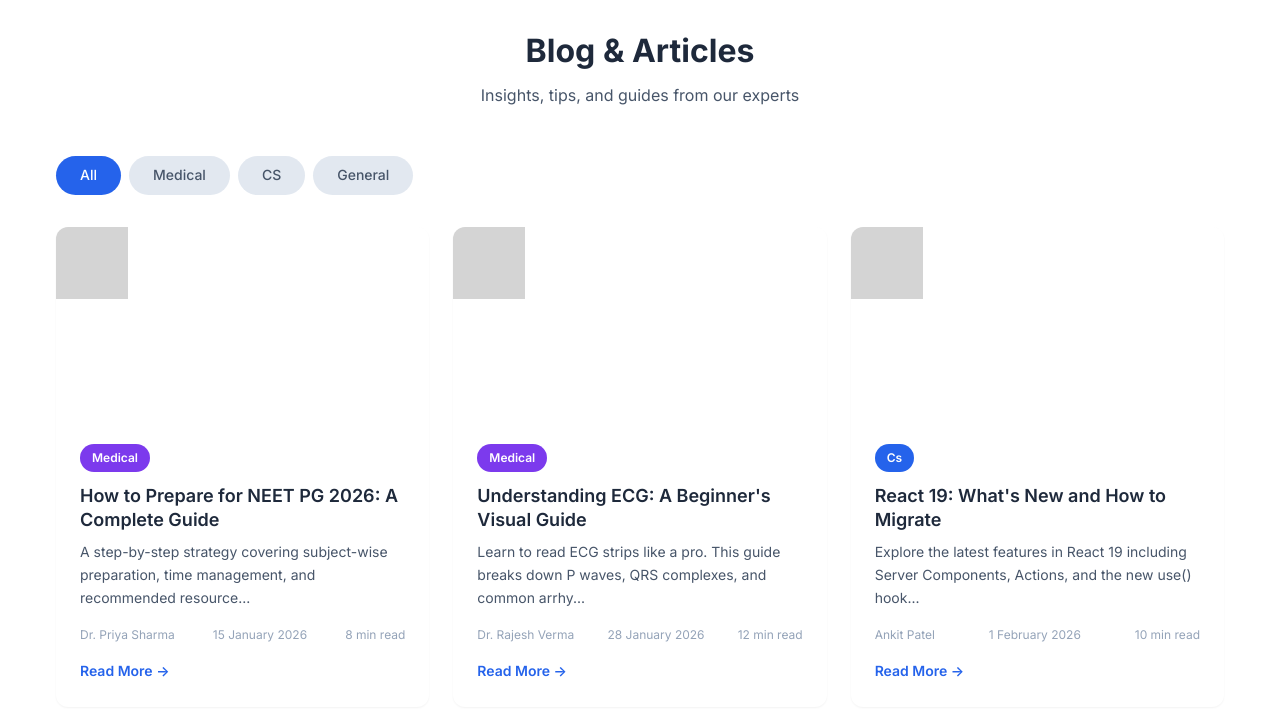
Blog › filters to CS blogs when CS tab is clicked
Step 1. Click the button "CS" → click(272, 176), box [238,156,305,195]
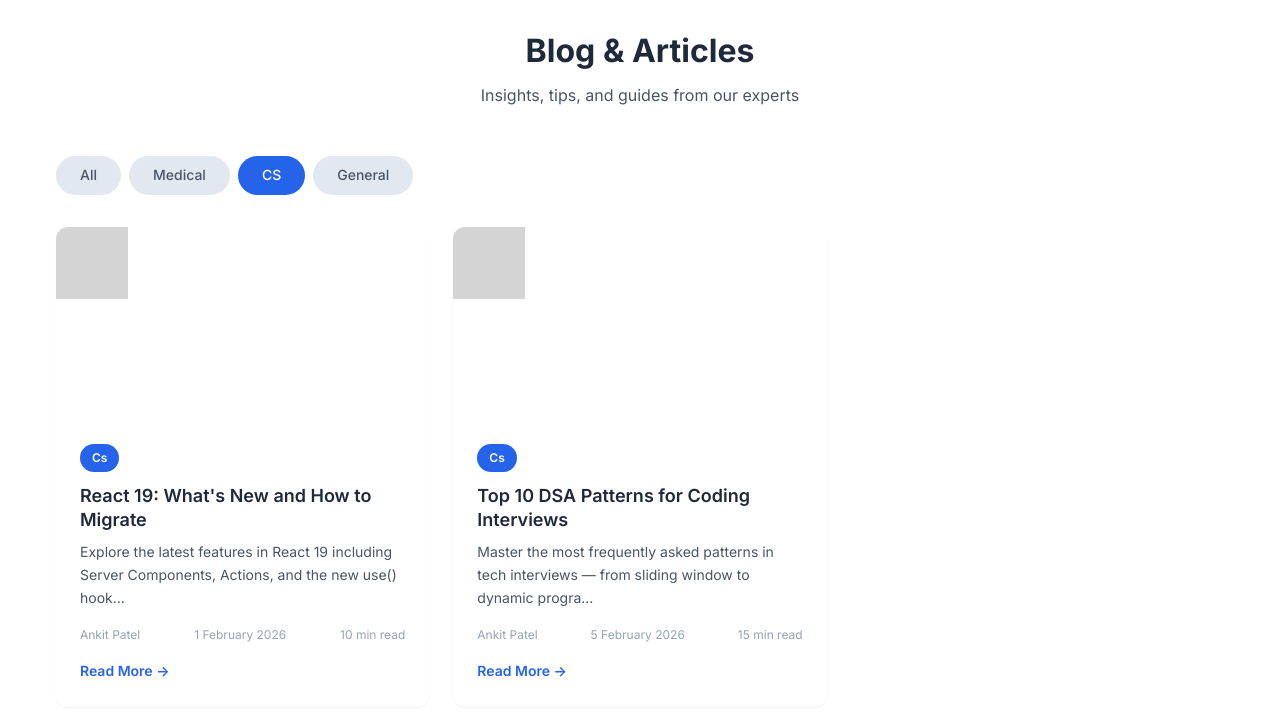
Expected: the heading "React 19: What's New and How to Migrate" is shown, [80,484,405,533]
Result: the heading "How to Prepare for NEET PG 2026: A Complete Guide" is gone
